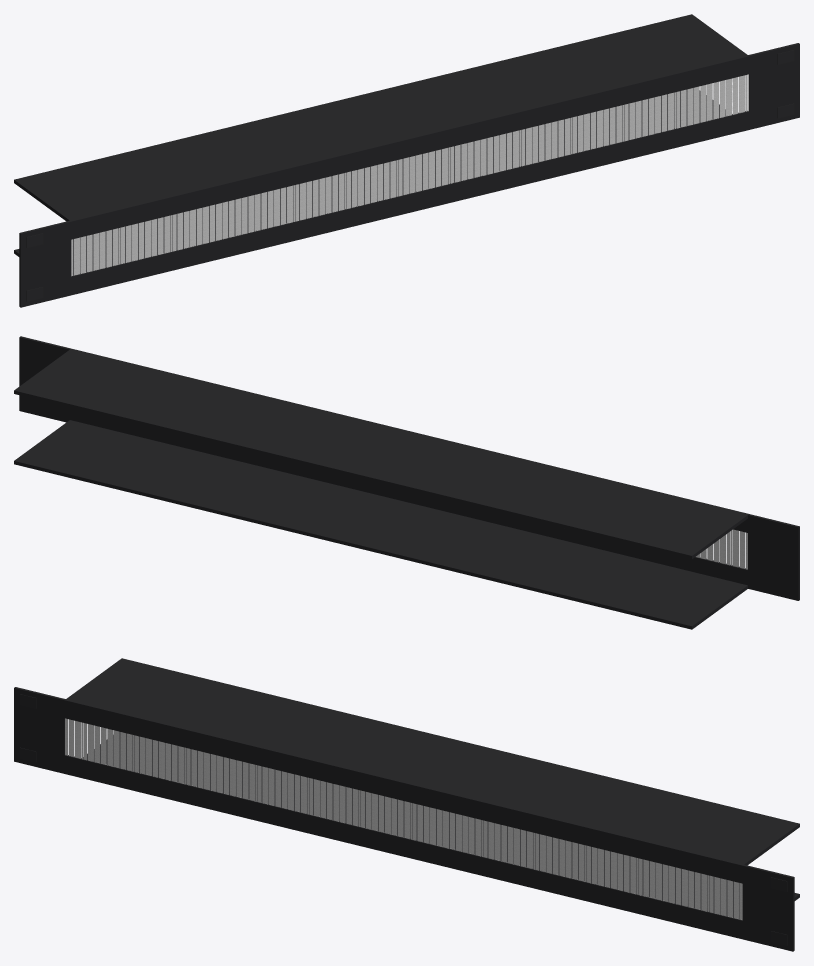
The model's file is CM-1U-BRUSH.glb.
3 renders of one model, top to bottom at view 1: azimuth 30°, elevation 25°; view 2: azimuth 150°, elevation 25°; view 3: azimuth 330°, elevation 25°, orthographic.
Parts seen in each view (by area): view 1: CM-1U-BRUSH, brush:front; view 2: CM-1U-BRUSH, brush:front; view 3: CM-1U-BRUSH, brush:front.
Part boxes in pixels (<box>): CM-1U-BRUSH: <box>14,14,799,307</box>; brush:front: <box>71,74,748,276</box>; CM-1U-BRUSH: <box>14,336,799,629</box>; brush:front: <box>696,529,747,569</box>; CM-1U-BRUSH: <box>14,658,799,951</box>; brush:front: <box>65,718,742,920</box>.
Size of the model in its own units: 0.4826 by 0.0437 by 0.0617.
3 materials, 1 textured.
